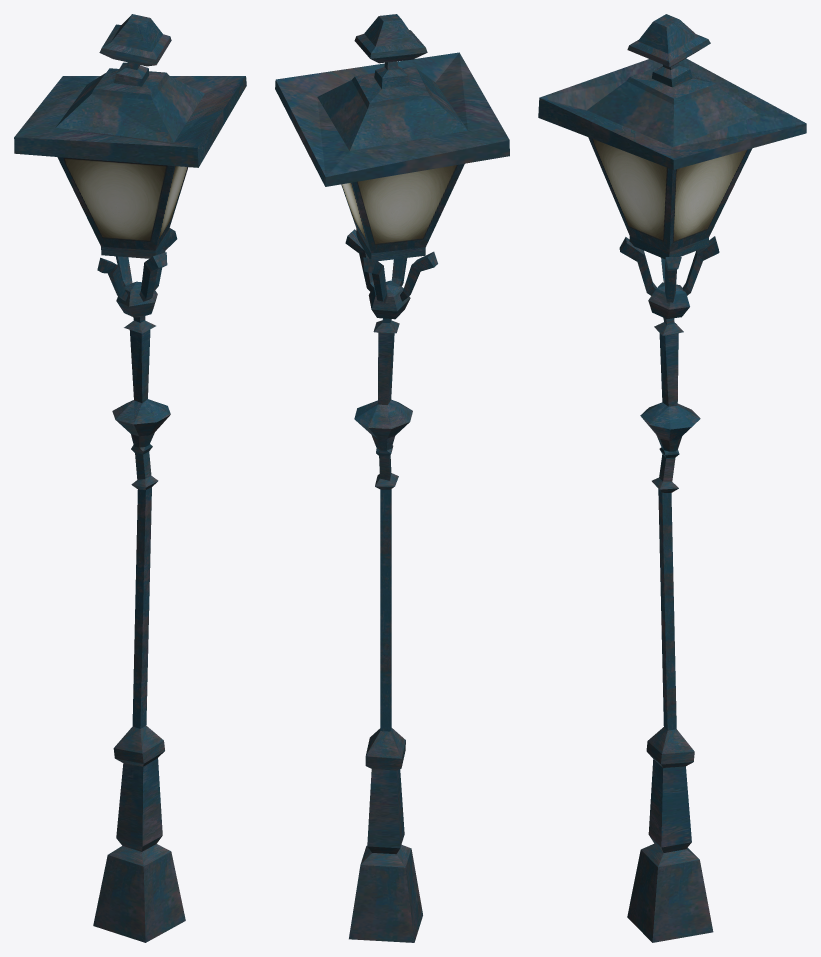
Rendered from Street Light.gltf.
The picture shows the model from 3 angles, left to right: view 1: azimuth 30°, elevation 25°; view 2: azimuth 150°, elevation 25°; view 3: azimuth 270°, elevation 25°; orthographic projection.
Bounding box in the file's own units: 0.0124 × 0.0459 × 0.0123.
Materials: 1 (1 with a texture image).
